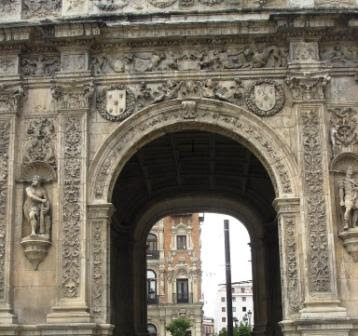arco-medio-punto: (79, 95, 307, 215)
